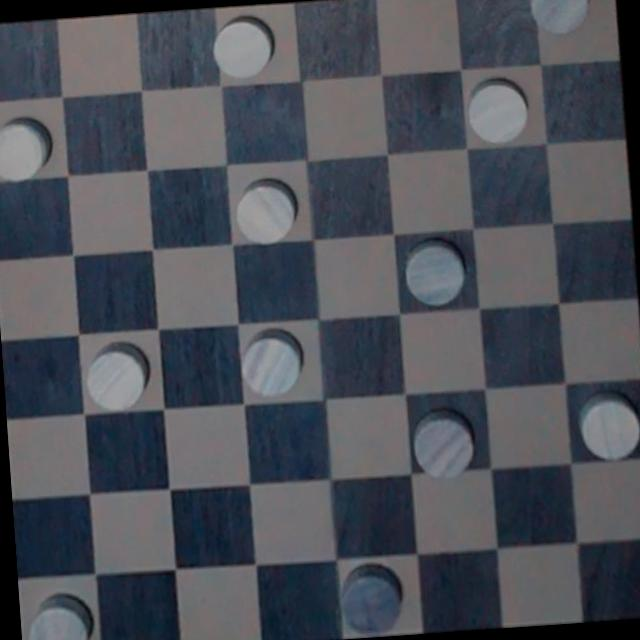BOARD: (0, 0, 640, 640)
white: (200, 10, 296, 86), (394, 230, 478, 310), (334, 558, 411, 640), (573, 379, 640, 469), (407, 399, 478, 483), (78, 336, 150, 413), (236, 327, 307, 402), (233, 177, 308, 245), (465, 72, 535, 144), (20, 579, 101, 640), (0, 110, 56, 189), (520, 0, 596, 48)
